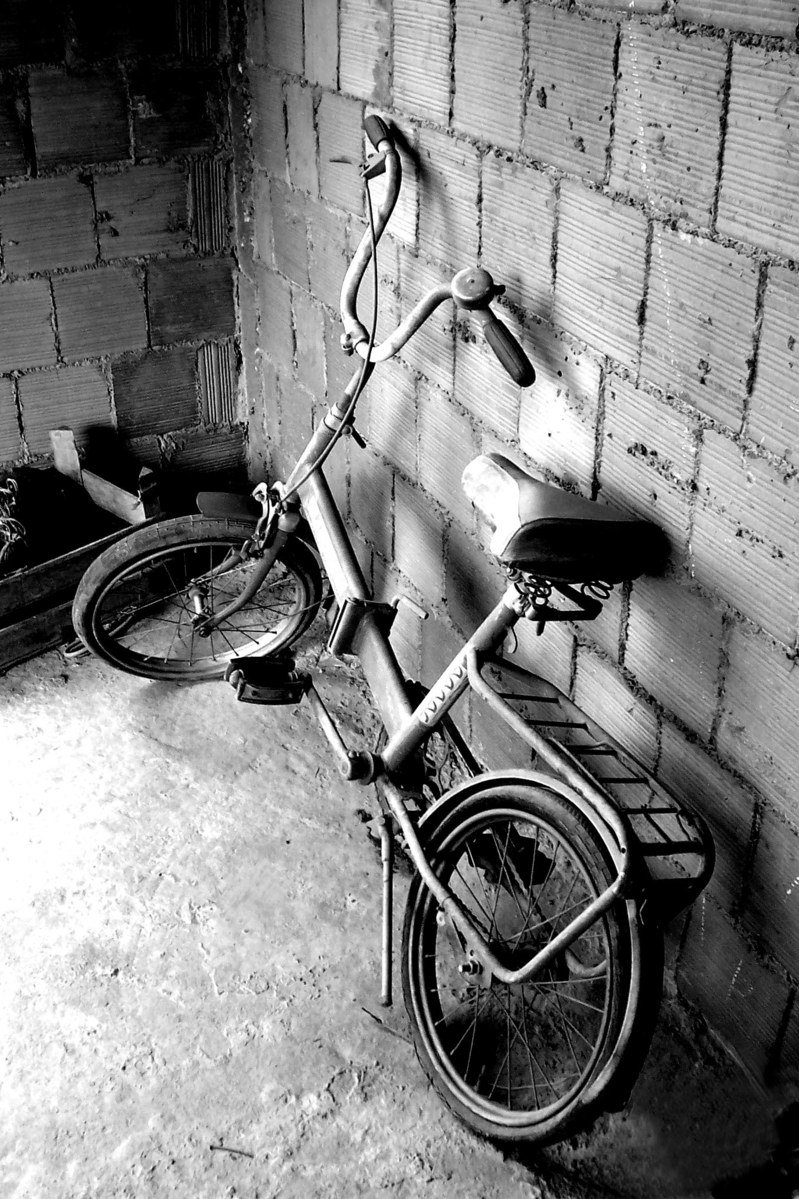Bicycle: (31, 77, 754, 1186)
